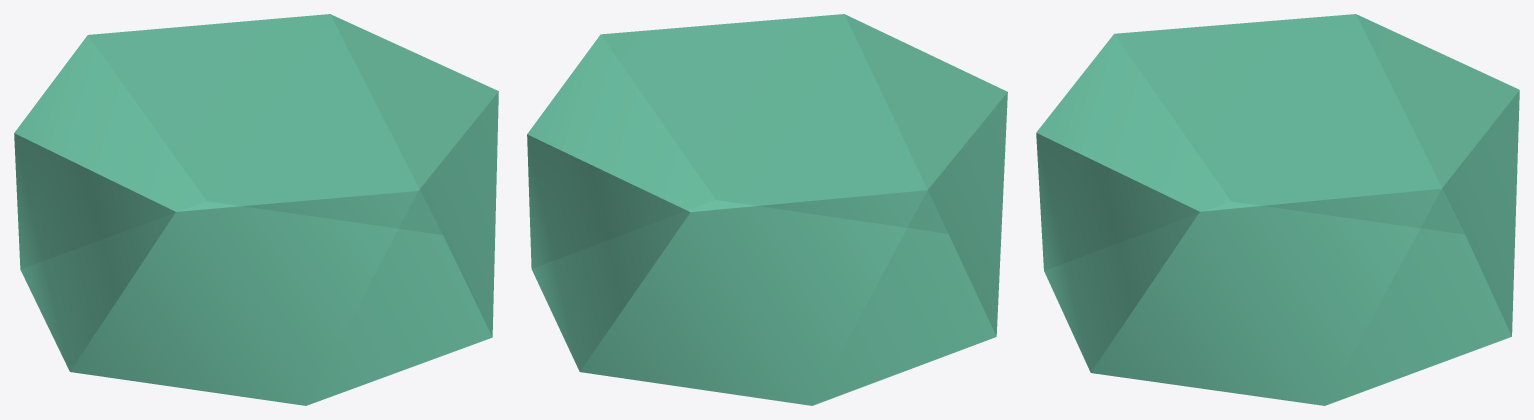
3 renders of one model, left to right at view 1: azimuth 30°, elevation 25°; view 2: azimuth 150°, elevation 25°; view 3: azimuth 270°, elevation 25°, orthographic.
Size of the model in its own units: 6.2 by 2.7 by 6.2.
